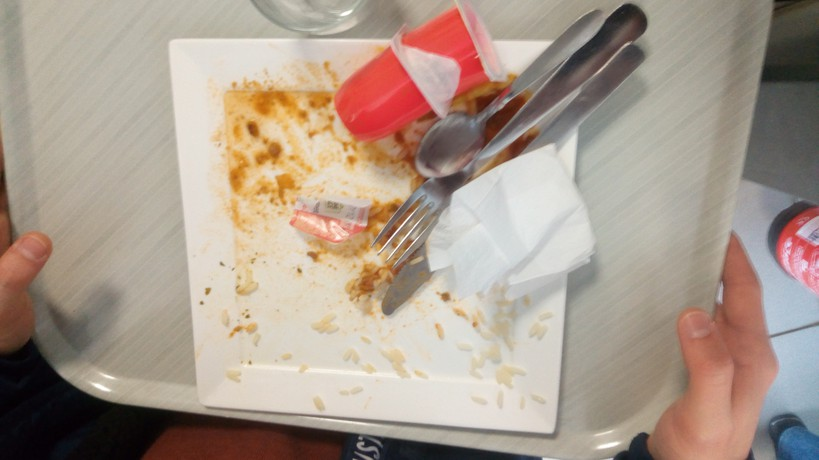cutlery: (367, 3, 670, 273)
trash: (317, 8, 494, 146), (449, 152, 598, 303), (288, 193, 371, 254)
